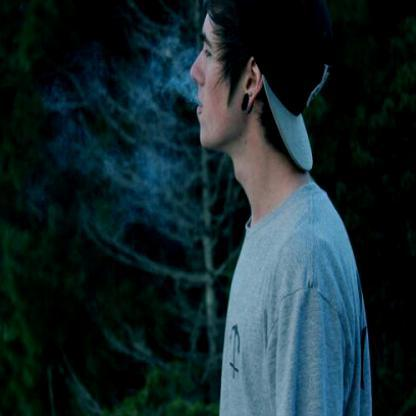person: (192, 0, 370, 415)
smoke: (165, 45, 195, 97)
